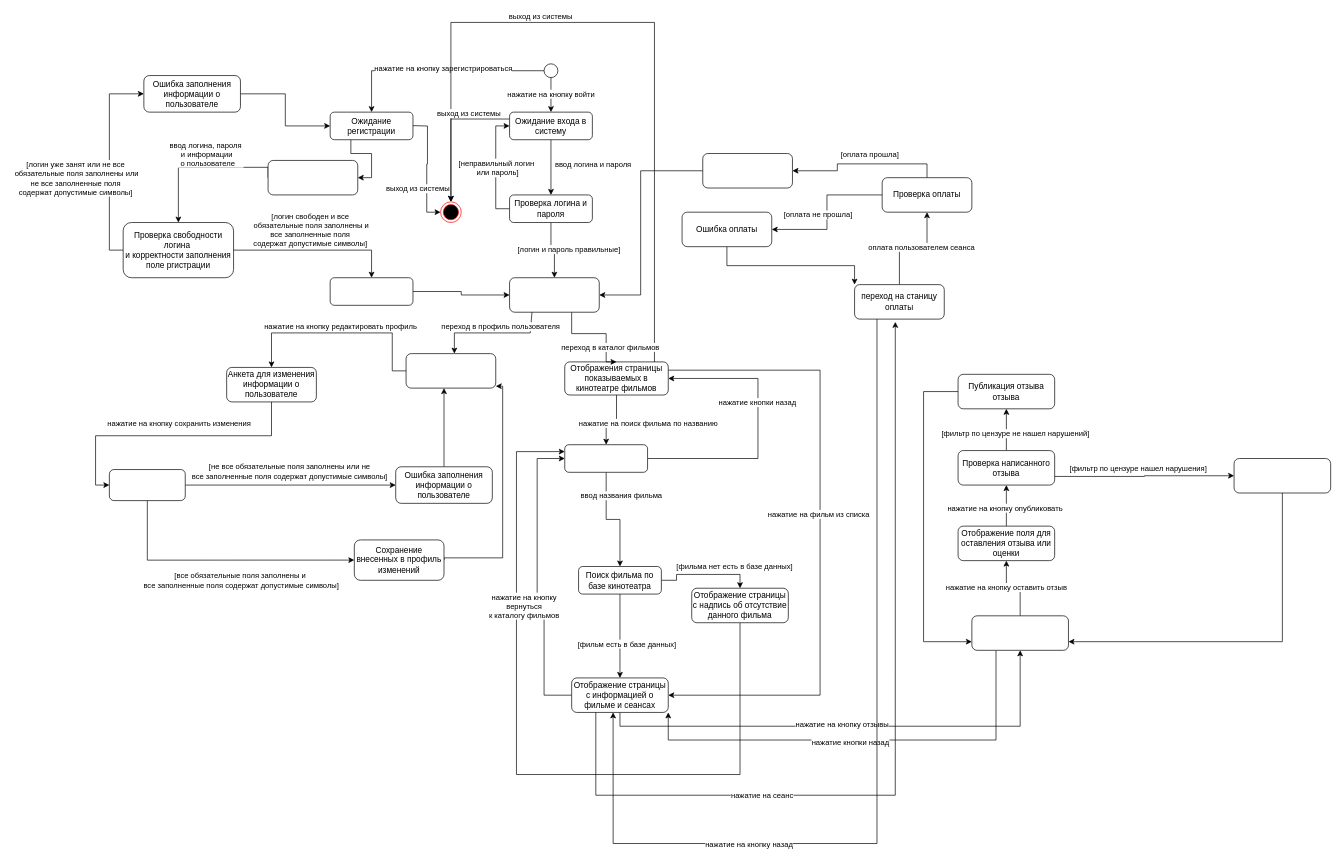
Some shapes in this 1343 by 861 pixel diagram are drawn without their labels. Here are the shapes that lost their labels. From the top down, the centre of each, then its label:
At (312,177): "Отображение анкеты для регистрации".
At (747,170): "Отправка билетов на почту".
At (371,291): "Создание аккаунта нового пользователя".
At (554,294): "Отображение главной страницы сайта".
At (450,370): "Отображение информации о пользователе".
At (606,458): "Отображение панели поиска".
At (1282,475): "Сообщение об ошибке публикации".
At (147,485): "Проверка корректности заполнения полей".
At (1019,632): "Отображение страницы с отзывами и оценками фильма".
